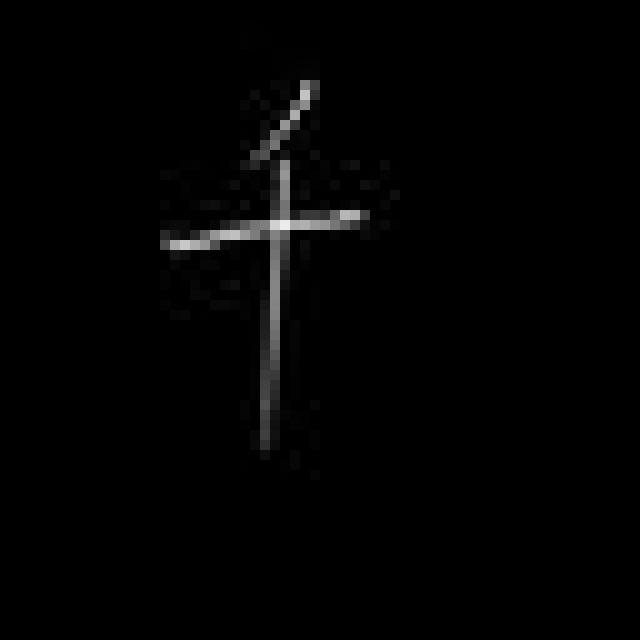1000 -a thousand-: (153, 71, 375, 457)
